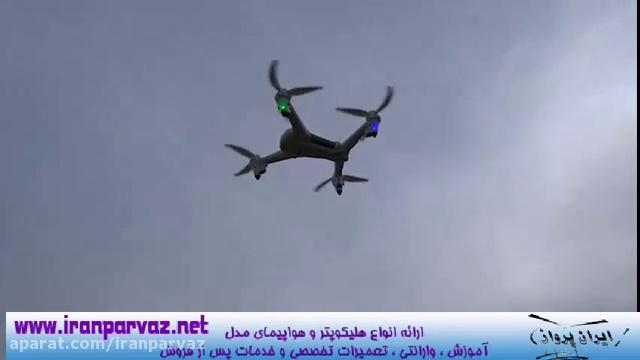drone: (220, 55, 400, 196)
